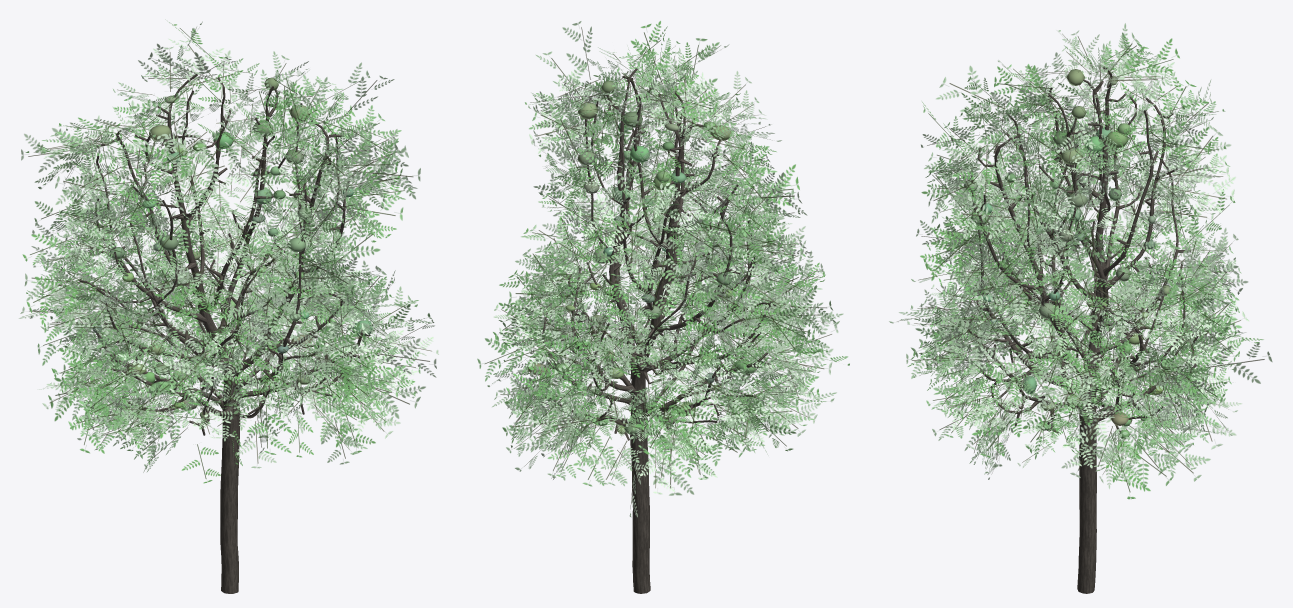
File: tree_68_broadleaf.glb
3 renders of one model, left to right at view 1: azimuth 30°, elevation 25°; view 2: azimuth 150°, elevation 25°; view 3: azimuth 270°, elevation 25°, orthographic.
Parts seen in each view (by area): view 1: tree_68_broadleaf.leaves, tree_68_broadleaf.trunk_branches, tree_68_broadleaf.foliage_volume; view 2: tree_68_broadleaf.leaves, tree_68_broadleaf.trunk_branches, tree_68_broadleaf.foliage_volume; view 3: tree_68_broadleaf.leaves, tree_68_broadleaf.trunk_branches, tree_68_broadleaf.foliage_volume.
Boxes of the visible parts, bbox=[...] form: tree_68_broadleaf.leaves: bbox=[19, 21, 438, 483]; tree_68_broadleaf.trunk_branches: bbox=[79, 74, 370, 593]; tree_68_broadleaf.foliage_volume: bbox=[92, 77, 373, 418]; tree_68_broadleaf.leaves: bbox=[477, 21, 849, 517]; tree_68_broadleaf.trunk_branches: bbox=[540, 68, 776, 593]; tree_68_broadleaf.foliage_volume: bbox=[527, 81, 755, 434]; tree_68_broadleaf.leaves: bbox=[889, 23, 1272, 499]; tree_68_broadleaf.trunk_branches: bbox=[964, 65, 1198, 593]; tree_68_broadleaf.foliage_volume: bbox=[963, 69, 1174, 439].
Size of the model in its own units: 8.25 by 12.14 by 7.83.
Materials: 3 (2 with a texture image).
